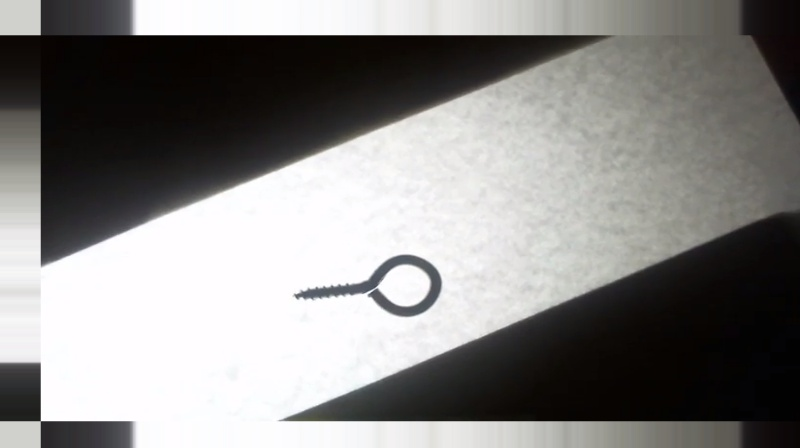O001: (287, 252, 448, 319)
